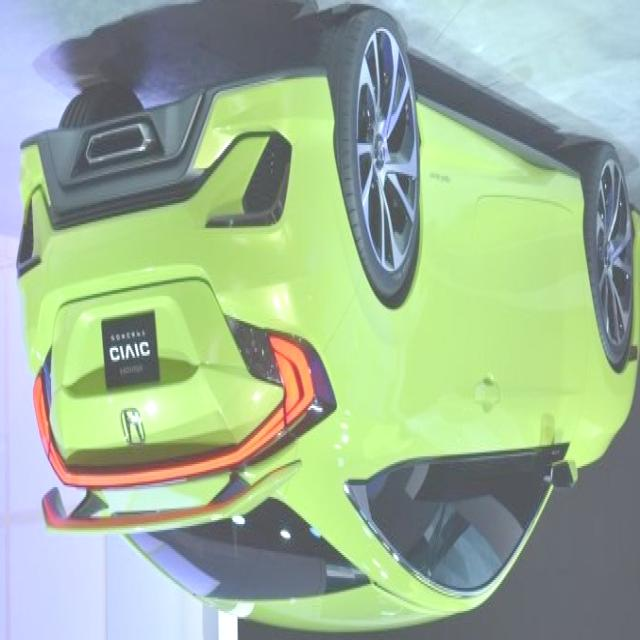green: (19, 15, 640, 633)
